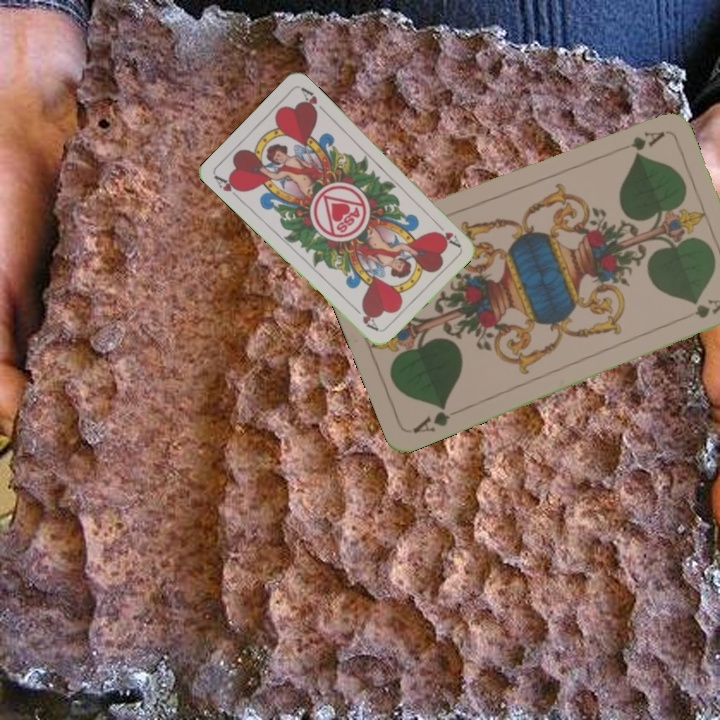GA: (609, 127, 667, 157), (408, 400, 453, 436)
HA: (210, 172, 246, 204), (430, 217, 462, 250)
